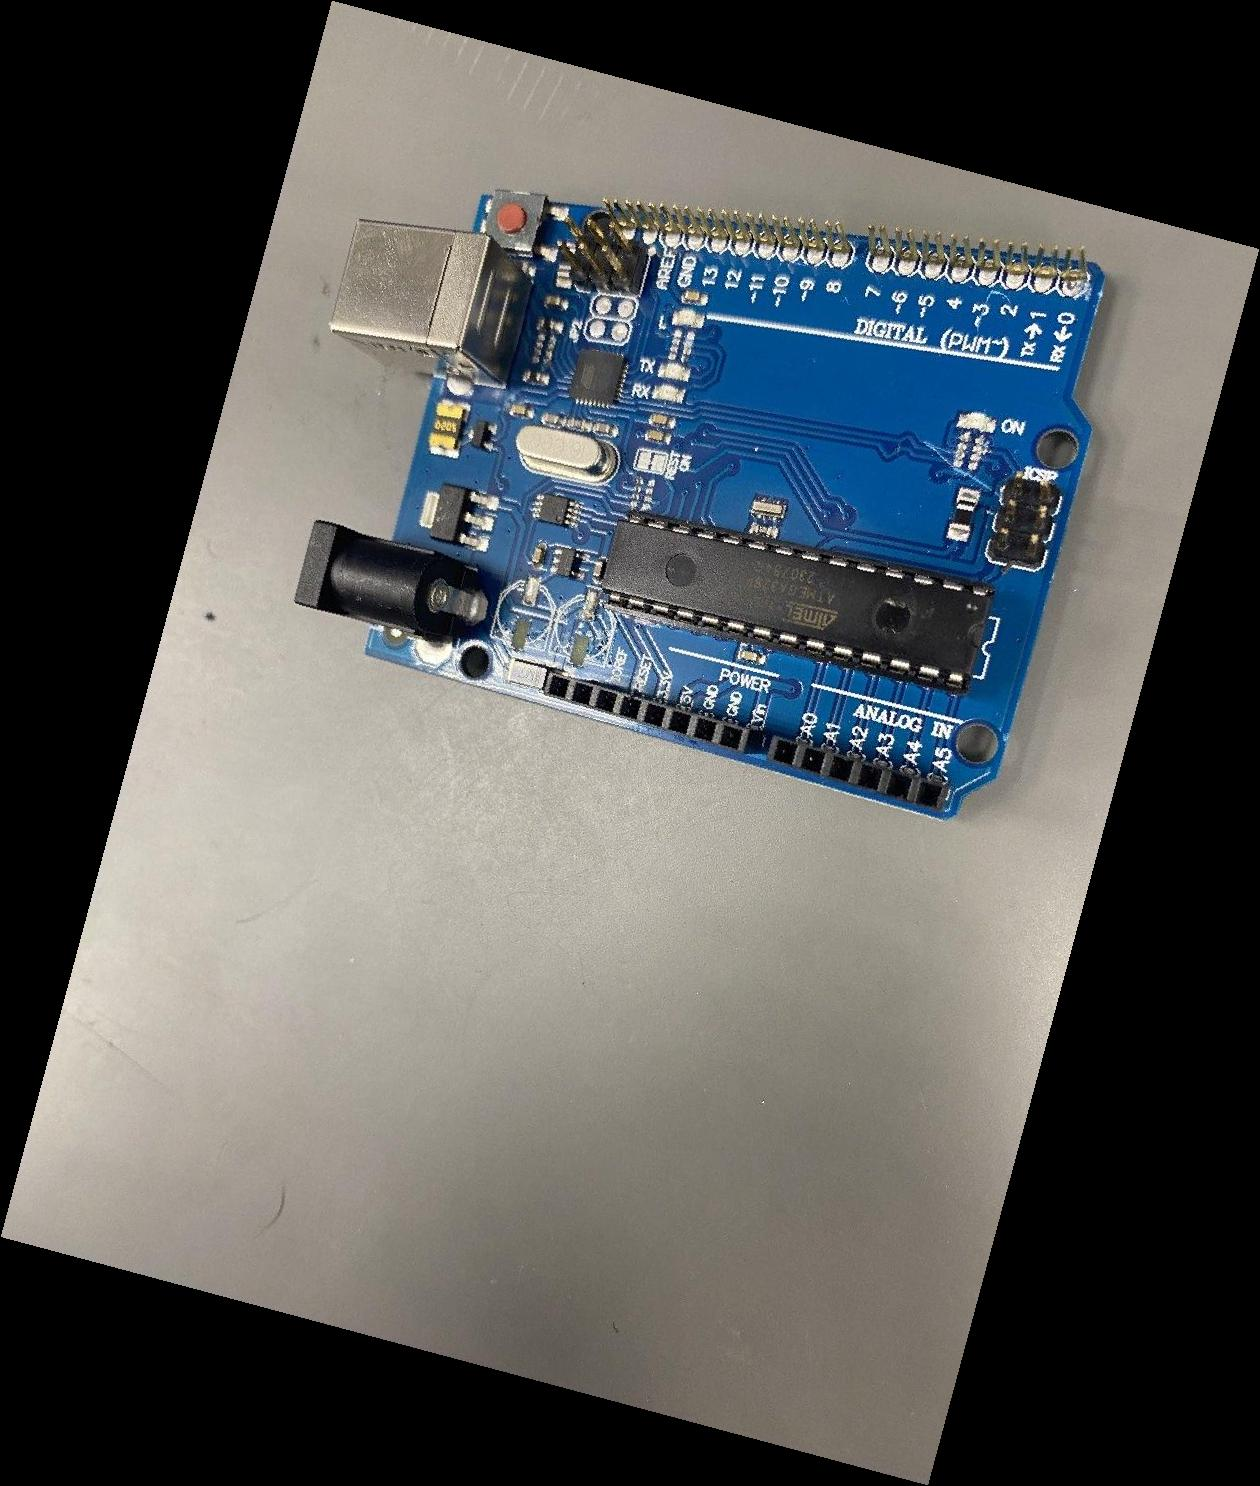ATmega328 chip: (601, 507, 994, 697)
Arduino board: (294, 190, 1105, 821)
USB: (328, 219, 533, 389)
pins: (542, 671, 764, 753), (766, 736, 948, 811)
